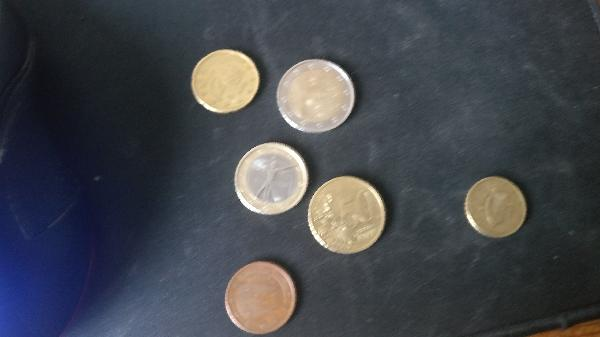Fifty Cent: (309, 179, 384, 252)
Five Cent: (224, 258, 299, 334)
One Euro: (233, 141, 313, 212)
Ten Cent: (464, 175, 531, 243)
Twenty Cent: (190, 50, 259, 116)
Two Euro: (275, 59, 359, 136)
